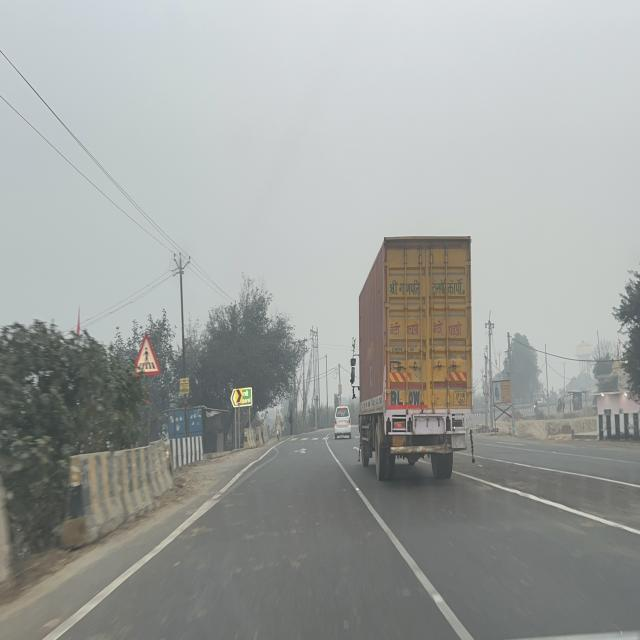PEDESTRIAN_CROSSING: (132, 332, 160, 378)
TURN_RIGHT: (236, 389, 242, 403)
